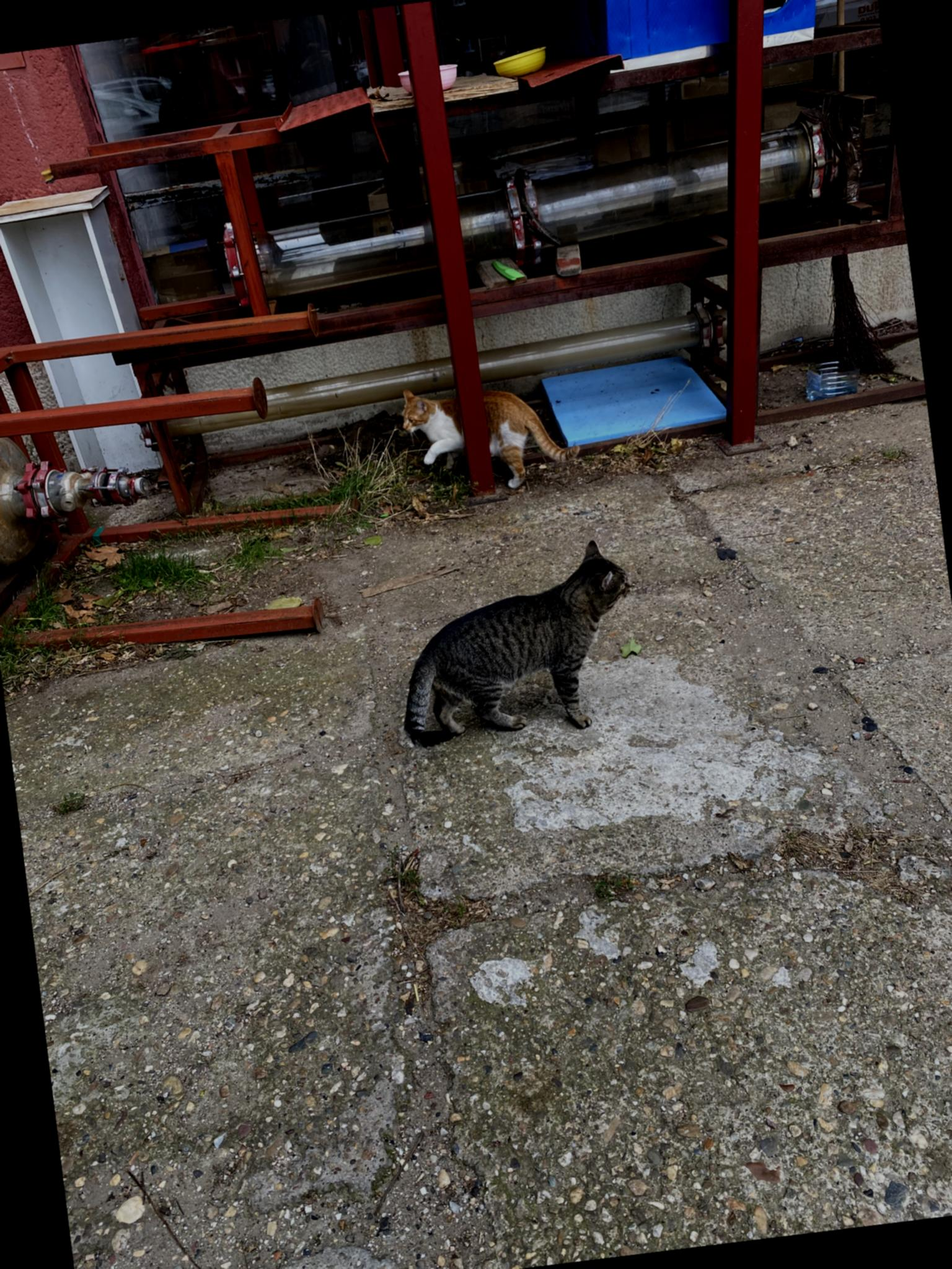macka: (387, 535, 648, 749), (398, 367, 585, 501)
